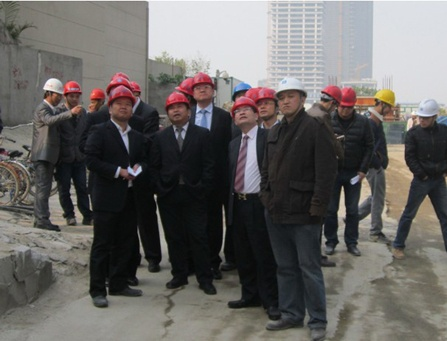blue: (230, 81, 251, 102)
red: (163, 92, 192, 125), (107, 85, 134, 119), (231, 97, 259, 128), (190, 72, 215, 105), (254, 87, 278, 120), (318, 83, 340, 110), (337, 85, 356, 115), (63, 79, 81, 106), (177, 78, 194, 102), (89, 86, 106, 109)
white: (275, 76, 306, 117), (418, 99, 439, 128), (43, 77, 64, 105), (411, 111, 417, 119)
yellow: (372, 88, 396, 115)
